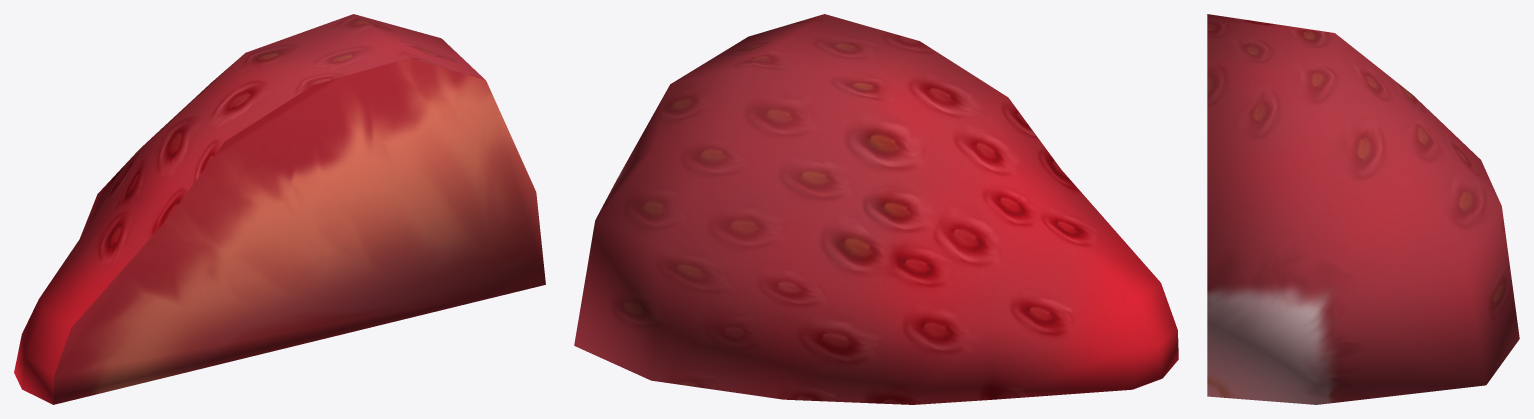
File: strawberryQuarter.glb
The picture shows the model from 3 angles, left to right: view 1: azimuth 30°, elevation 25°; view 2: azimuth 150°, elevation 25°; view 3: azimuth 270°, elevation 25°; orthographic projection.
Visible parts, largest first — view 1: strawberry_quarter; view 2: strawberry_quarter; view 3: strawberry_quarter.
Part boxes in pixels (left/top/right/bottom): strawberry_quarter: left=14, top=14, right=545, bottom=404; strawberry_quarter: left=574, top=14, right=1178, bottom=404; strawberry_quarter: left=1207, top=14, right=1519, bottom=404.
Bounding box in the file's own units: 1.94 × 0.9321 × 1.
2 materials, 2 textured.
